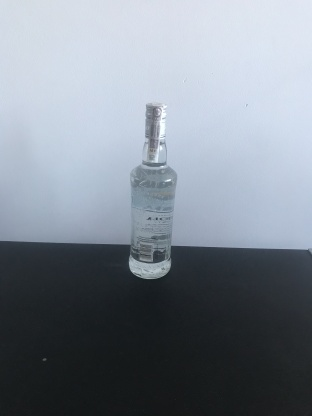nakretka: (142, 99, 169, 141)
